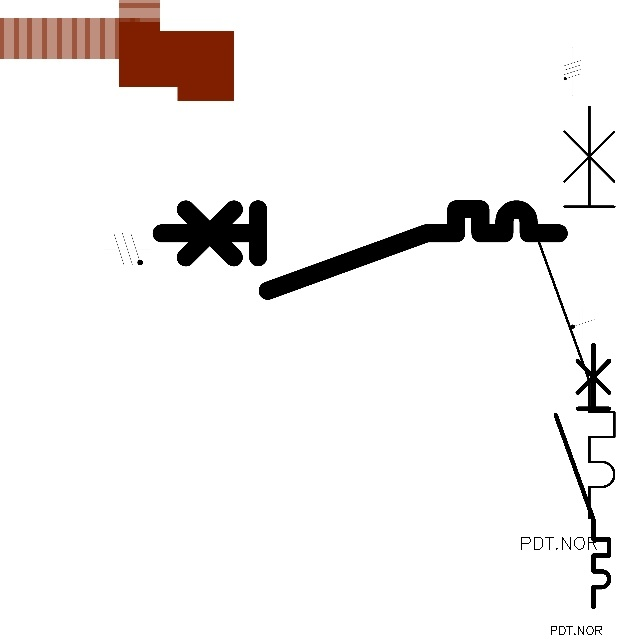interruptor_termomagnetico: (519, 96, 625, 529), (151, 199, 568, 301), (549, 338, 616, 614)
